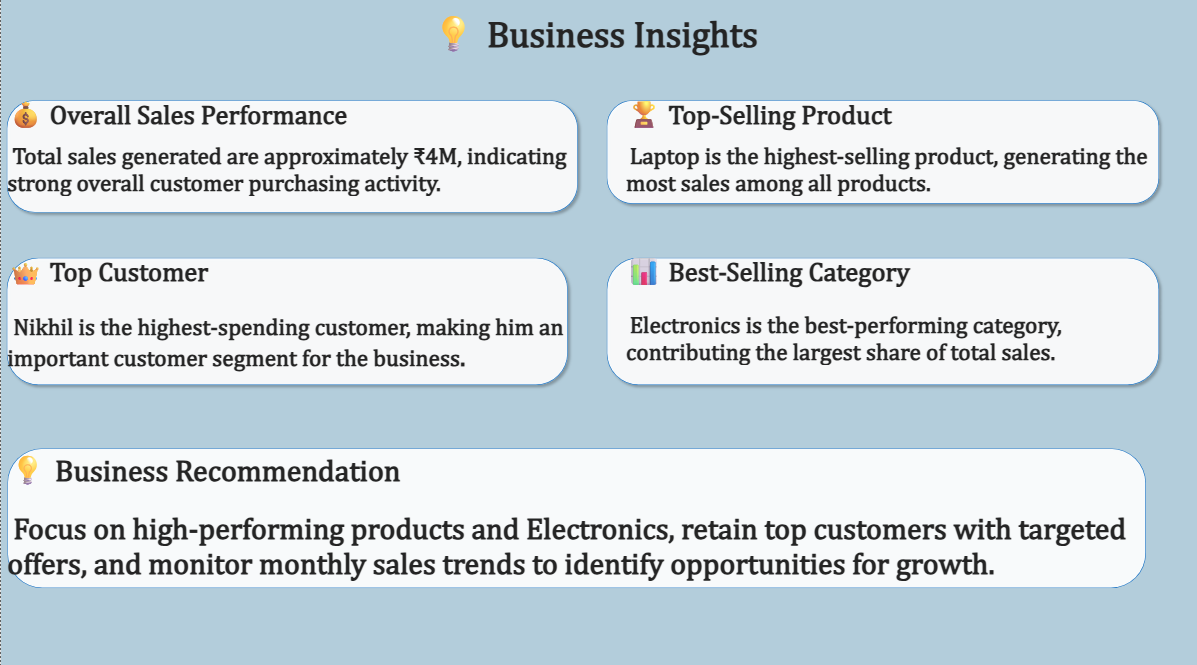

The dashboard page shown, as its layout file describes it:
{"tool":"powerbi","page":{"name":"💡 Business Insights","canvas":[1920,1080],"ordinal":1},"visuals":[{"type":"shape","box":[10,722,1822,224],"z":0},{"type":"shape","box":[960,408,902,222],"z":1000},{"type":"shape","box":[0,408,916,222],"z":2000},{"type":"shape","box":[960,156,902,184],"z":3000},{"type":"shape","box":[0,156,932,198],"z":4000},{"type":"textbox","box":[10,156,922,218],"z":5000},{"type":"textbox","box":[684,16,772,140],"z":6000},{"type":"textbox","box":[1000,156,882,232],"z":7000},{"type":"textbox","box":[10,408,922,350],"z":8000},{"type":"textbox","box":[1000,408,882,378],"z":9000},{"type":"textbox","box":[10,722,1892,284],"z":10000}]}

Visuals, with their boxes in screenshot pixels (x1, y1, x2, y2), scaled from the page's 1920x1080 canvas onto the 1197x665 screenshot:
shape: box(6, 445, 1142, 582)
shape: box(598, 251, 1161, 388)
shape: box(0, 251, 571, 388)
shape: box(598, 96, 1161, 209)
shape: box(0, 96, 581, 218)
textbox: box(6, 96, 581, 230)
textbox: box(426, 10, 908, 96)
textbox: box(623, 96, 1173, 239)
textbox: box(6, 251, 581, 467)
textbox: box(623, 251, 1173, 484)
textbox: box(6, 445, 1186, 619)
